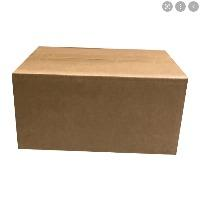undamaged: (7, 44, 191, 159)
